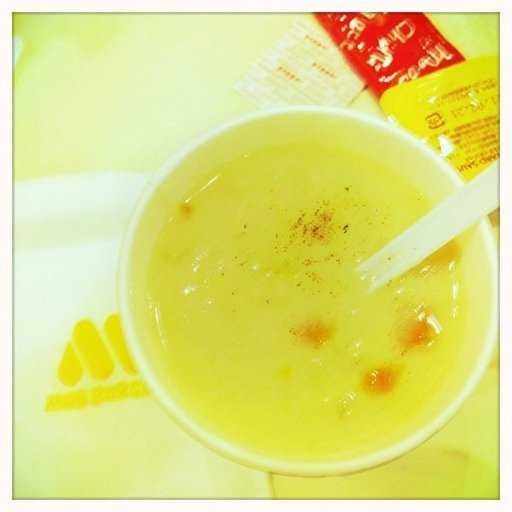soup: (116, 99, 492, 488)
